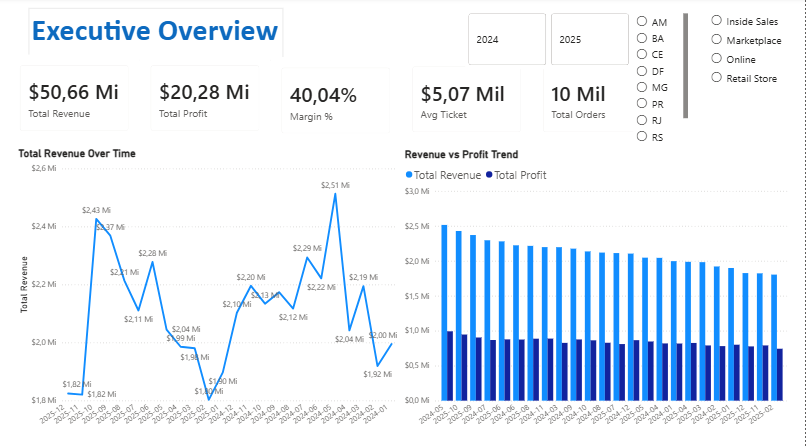

The dashboard page shown, as its layout file describes it:
{"tool":"powerbi","page":{"name":"Executive Overview","canvas":[1280,720],"ordinal":0},"visuals":[{"type":"textbox","box":[51.2,17.1,404.3,83.5],"z":0},{"type":"cardVisual","fields":{"Data":["fact_sales.Total Revenue"]},"box":[21.5,90.5,206.9,138.5],"z":1000},{"type":"cardVisual","fields":{"Data":["fact_sales.Total Profit"]},"box":[228.4,91.4,206.9,138.5],"z":2000},{"type":"cardVisual","fields":{"Data":["fact_sales.Margin %"]},"box":[435.3,94.3,206.9,138.5],"z":3000},{"type":"cardVisual","fields":{"Data":["fact_sales.Avg Ticket"]},"box":[642.1,92.4,206.9,138.5],"z":4000},{"type":"cardVisual","fields":{"Data":["fact_sales.Total Orders"]},"box":[849,93.3,206.9,138.5],"z":5000},{"type":"lineChart","title":"Total Revenue Over Time","fields":{"Y":["fact_sales.Total Revenue"],"Category":["dim_date.year_month"]},"box":[31.1,236.5,609.2,461],"z":6000},{"type":"clusteredColumnChart","title":"Revenue vs Profit Trend","fields":{"Category":["dim_date.year_month"],"Y":["fact_sales.Total Revenue","fact_sales.Total Profit"]},"box":[641.5,239.1,616.8,459.3],"z":7000},{"type":"listSlicer","fields":{"Values":["dim_channels.channel_name"]},"box":[1125.5,17.1,132.9,254.3],"z":8000},{"type":"advancedSlicerVisual","fields":{"Values":["dim_date.year_number"]},"box":[742.1,20.9,265.7,93],"z":9000},{"type":"listSlicer","fields":{"Values":["dim_regions.state"]},"box":[1007.8,20.9,93,218.3],"z":10000}]}

Visuals, with their boxes in screenshot pixels (x1, y1, x2, y2), scaled from the page's 1280x720 canvas onto the 806x448 screenshot:
textbox: left=32, top=11, right=287, bottom=63
cardVisual - fact_sales.Total Revenue: left=14, top=56, right=144, bottom=142
cardVisual - fact_sales.Total Profit: left=144, top=57, right=274, bottom=143
cardVisual - fact_sales.Margin %: left=274, top=59, right=404, bottom=145
cardVisual - fact_sales.Avg Ticket: left=404, top=57, right=535, bottom=144
cardVisual - fact_sales.Total Orders: left=535, top=58, right=665, bottom=144
"Total Revenue Over Time" lineChart: left=20, top=147, right=403, bottom=434
"Revenue vs Profit Trend" clusteredColumnChart: left=404, top=149, right=792, bottom=435
listSlicer - dim_channels.channel_name: left=709, top=11, right=792, bottom=169
advancedSlicerVisual - dim_date.year_number: left=467, top=13, right=635, bottom=71
listSlicer - dim_regions.state: left=635, top=13, right=693, bottom=149
